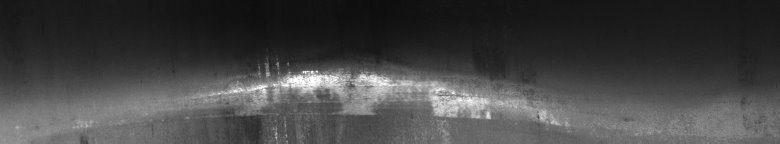ke: (209, 58, 570, 136)
